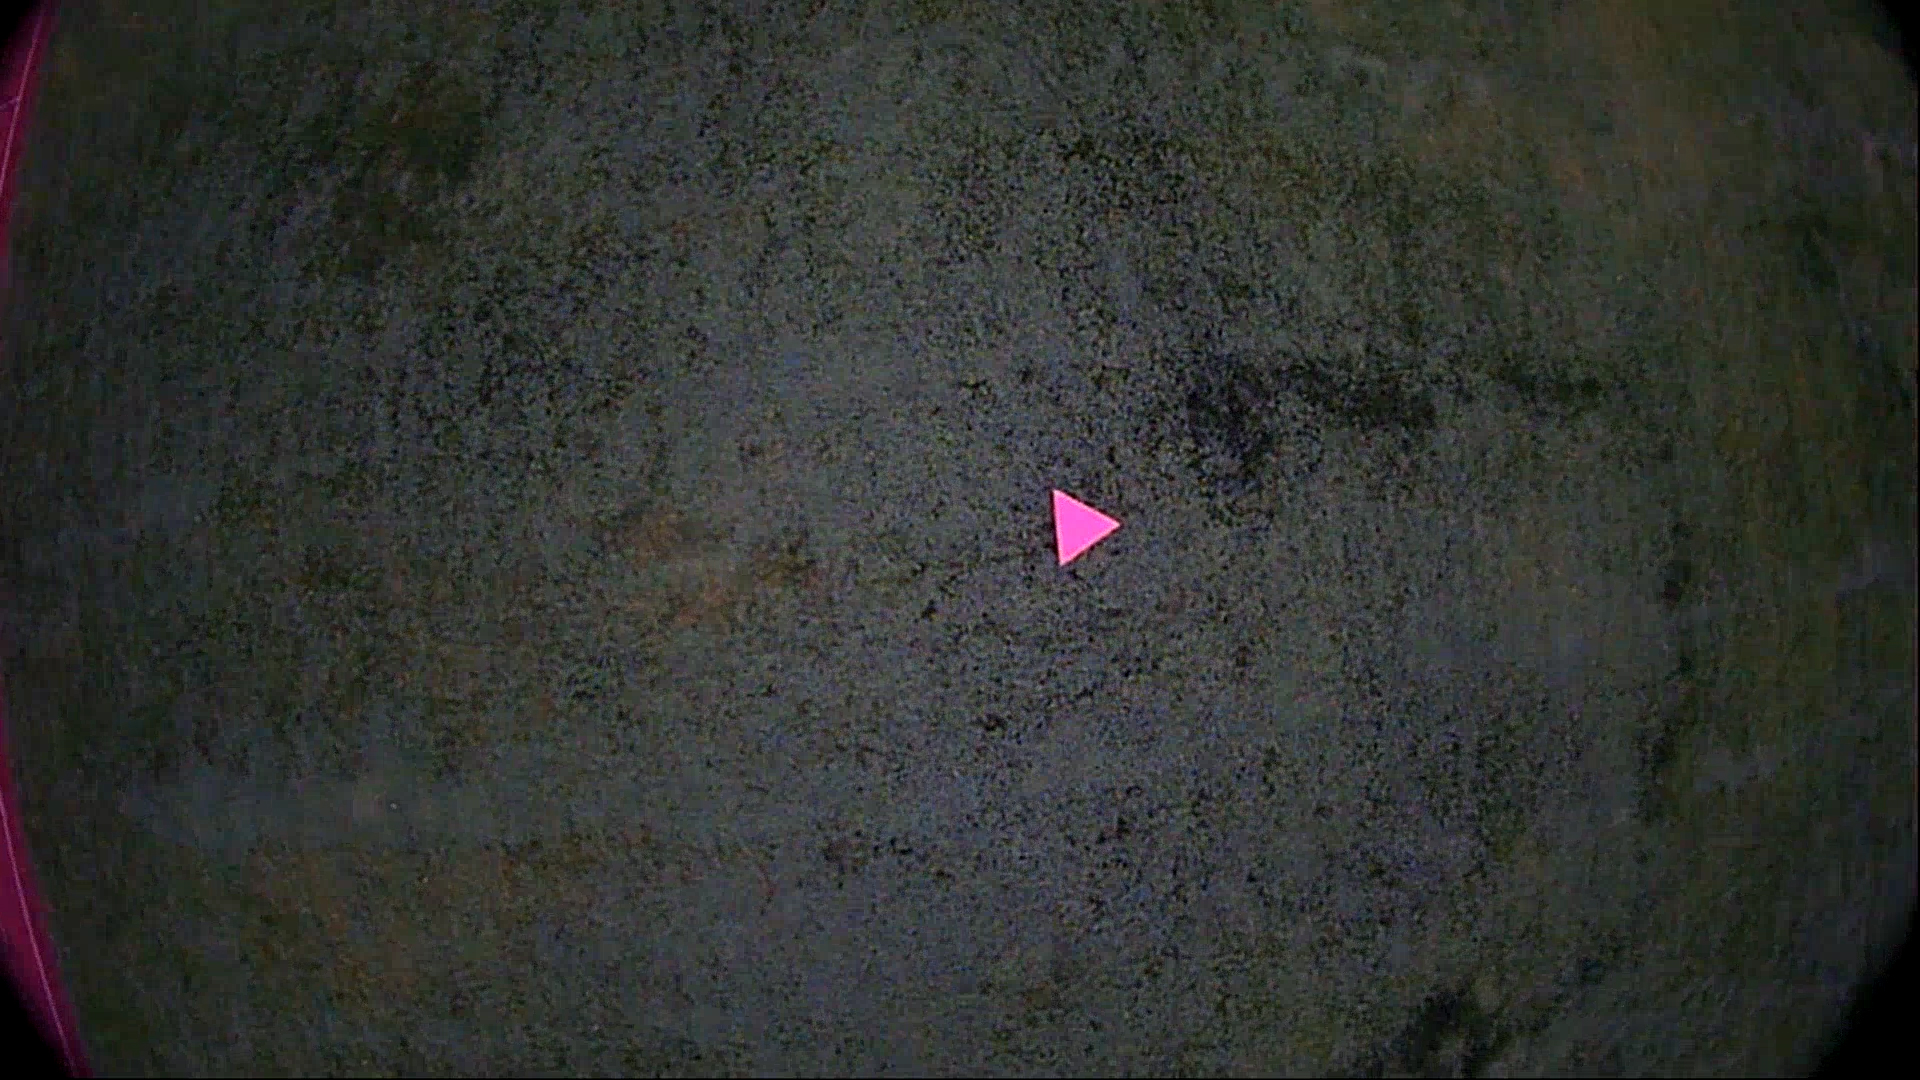triangle: (1040, 479, 1131, 572)
